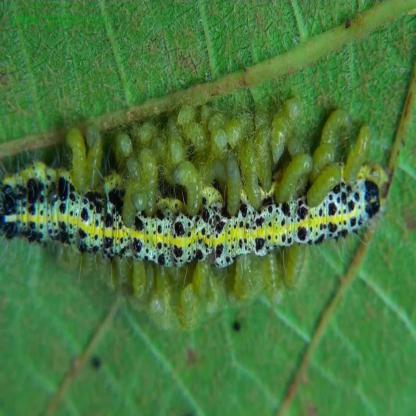pieris: (0, 168, 383, 265)
